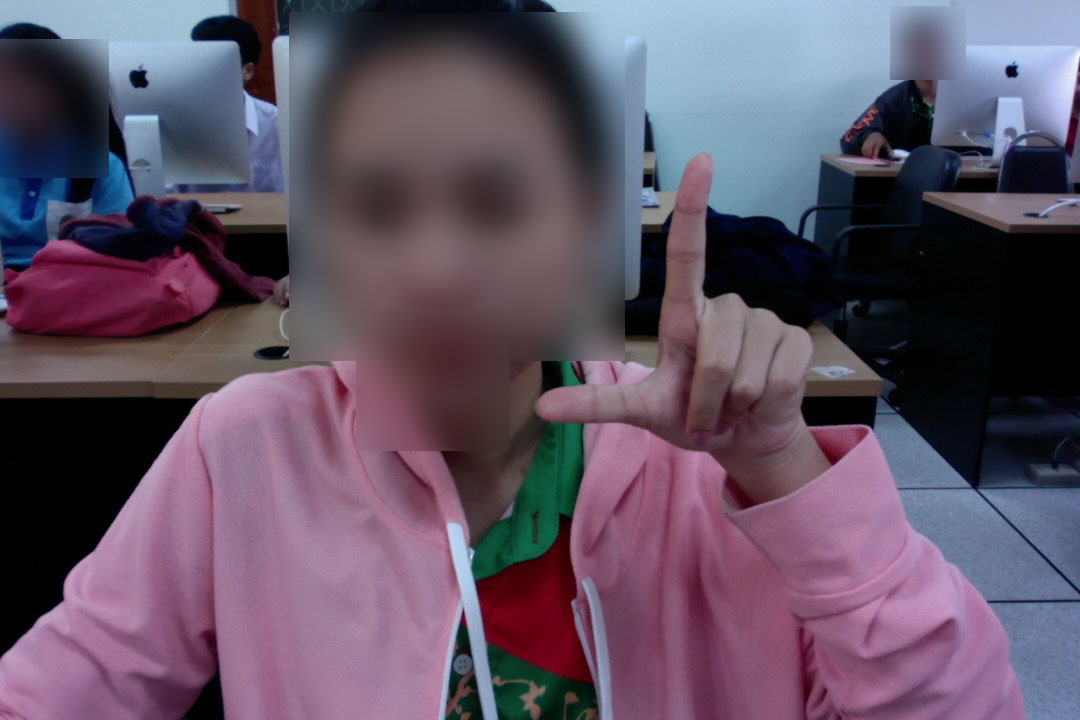lor: (525, 142, 854, 469)
